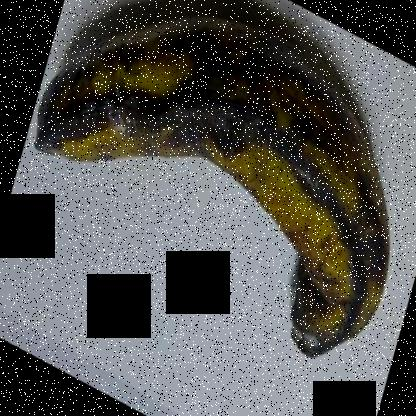overripe: (26, 1, 402, 368)
